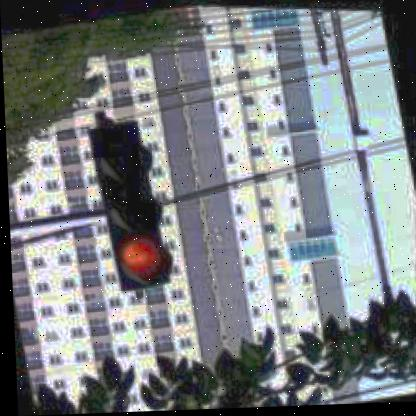Traffic Light -Red-: (81, 115, 183, 296)
